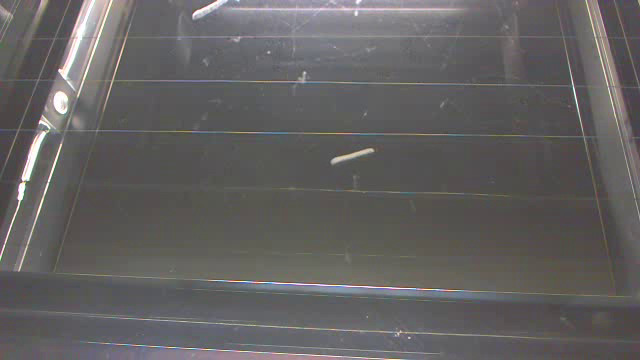alpha: (330, 148, 374, 165), (192, 1, 227, 19)
